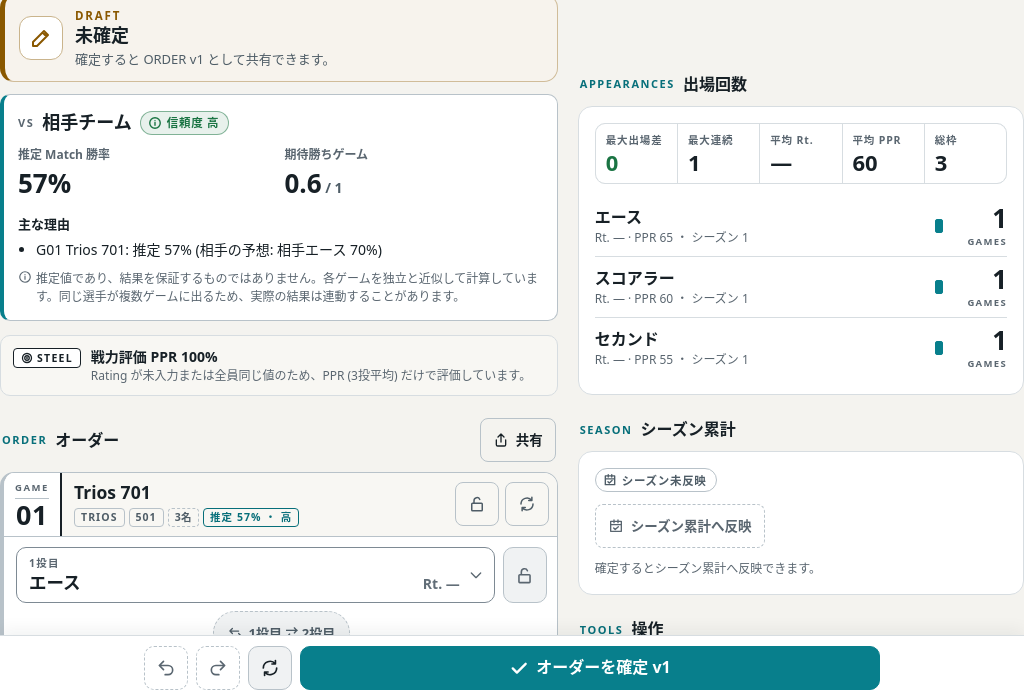
Test case: throw order on the result screen › a locked thrower cannot be swapped away
This screenshot has width=1024, height=698.
Click the button named "Game 1 Trios 701 1投目 のロック".
click(525, 575)  # box [503,547,547,603]
(page scrolled)
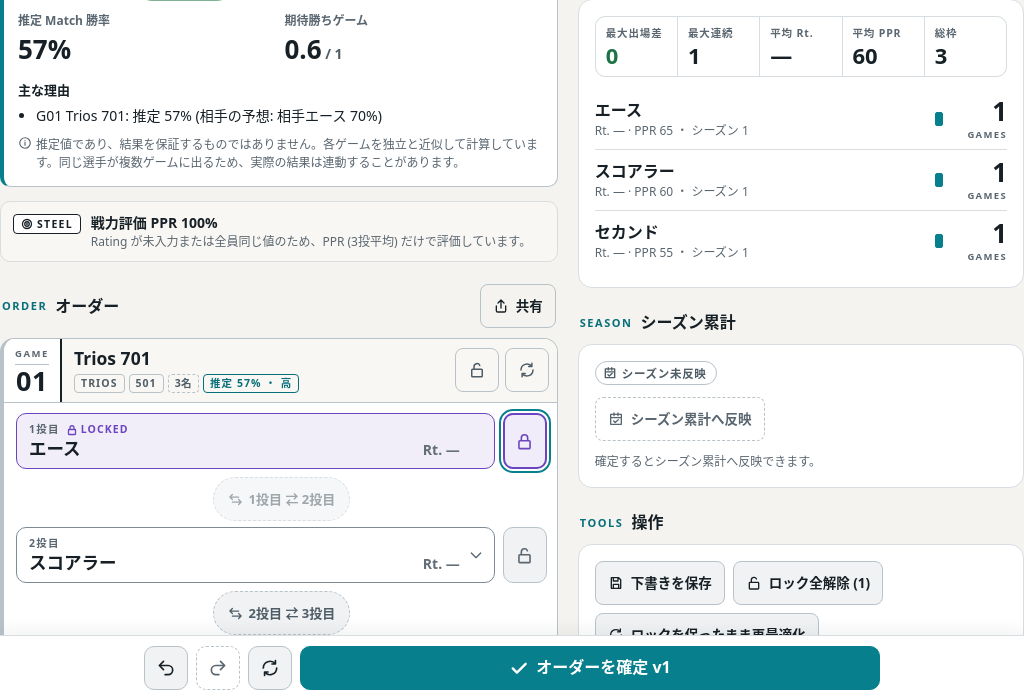
Expected: the button with aria-label "Game 1 Trios 701: 2投目と3投目を入れ替え" is enabled, [213,591,350,635]
Expected: the button with aria-label "Game 1 Trios 701: 1投目と2投目を入れ替え" is disabled, [213,477,350,521]
